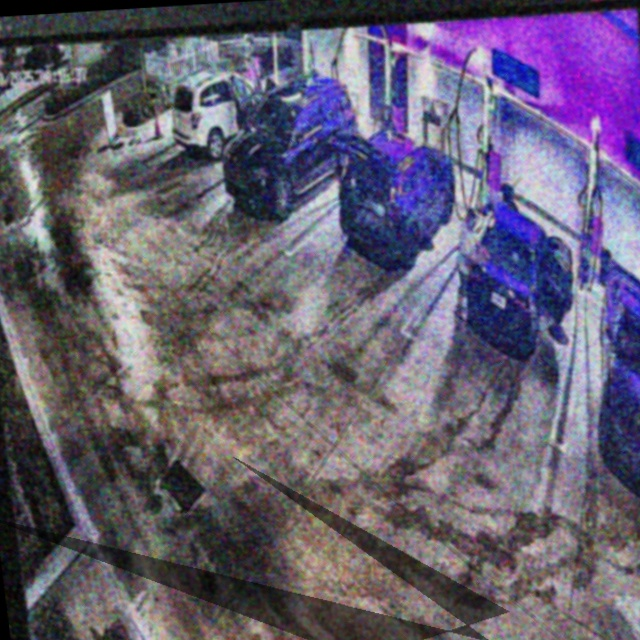Car: (214, 75, 365, 219), (329, 125, 463, 269), (459, 199, 579, 359), (163, 70, 283, 161)
